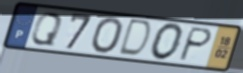7: (66, 12, 94, 52)
D: (116, 18, 154, 59)
O: (148, 22, 186, 62), (89, 16, 125, 55)
P: (176, 26, 214, 63)
Q: (29, 11, 65, 47)
